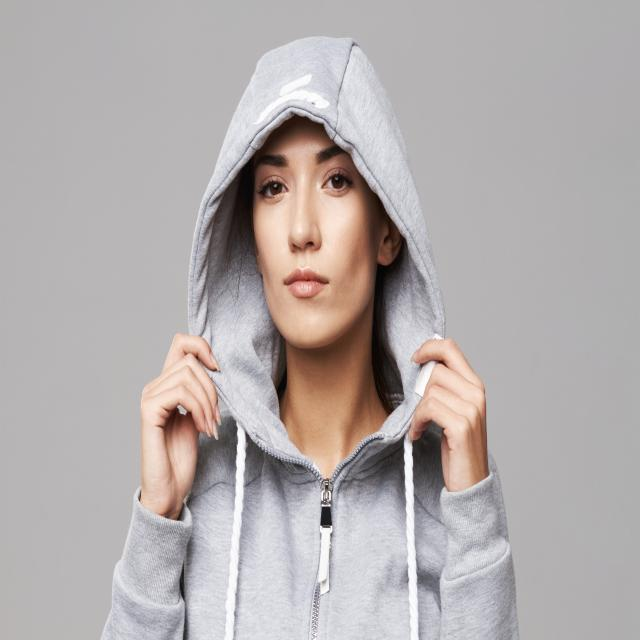4_capucha: (190, 33, 443, 486)
